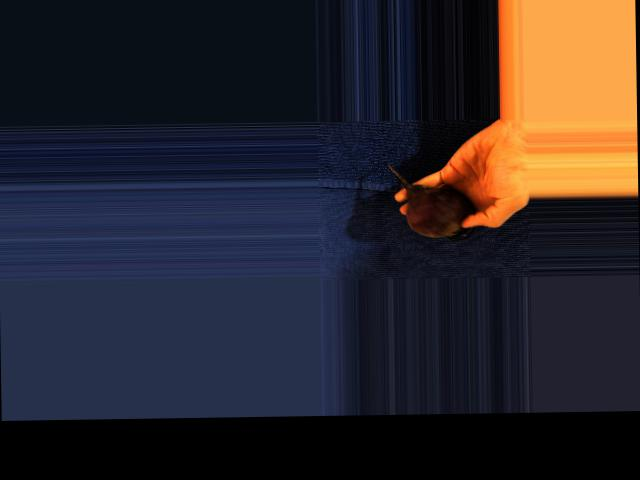beet: (387, 161, 474, 241)
